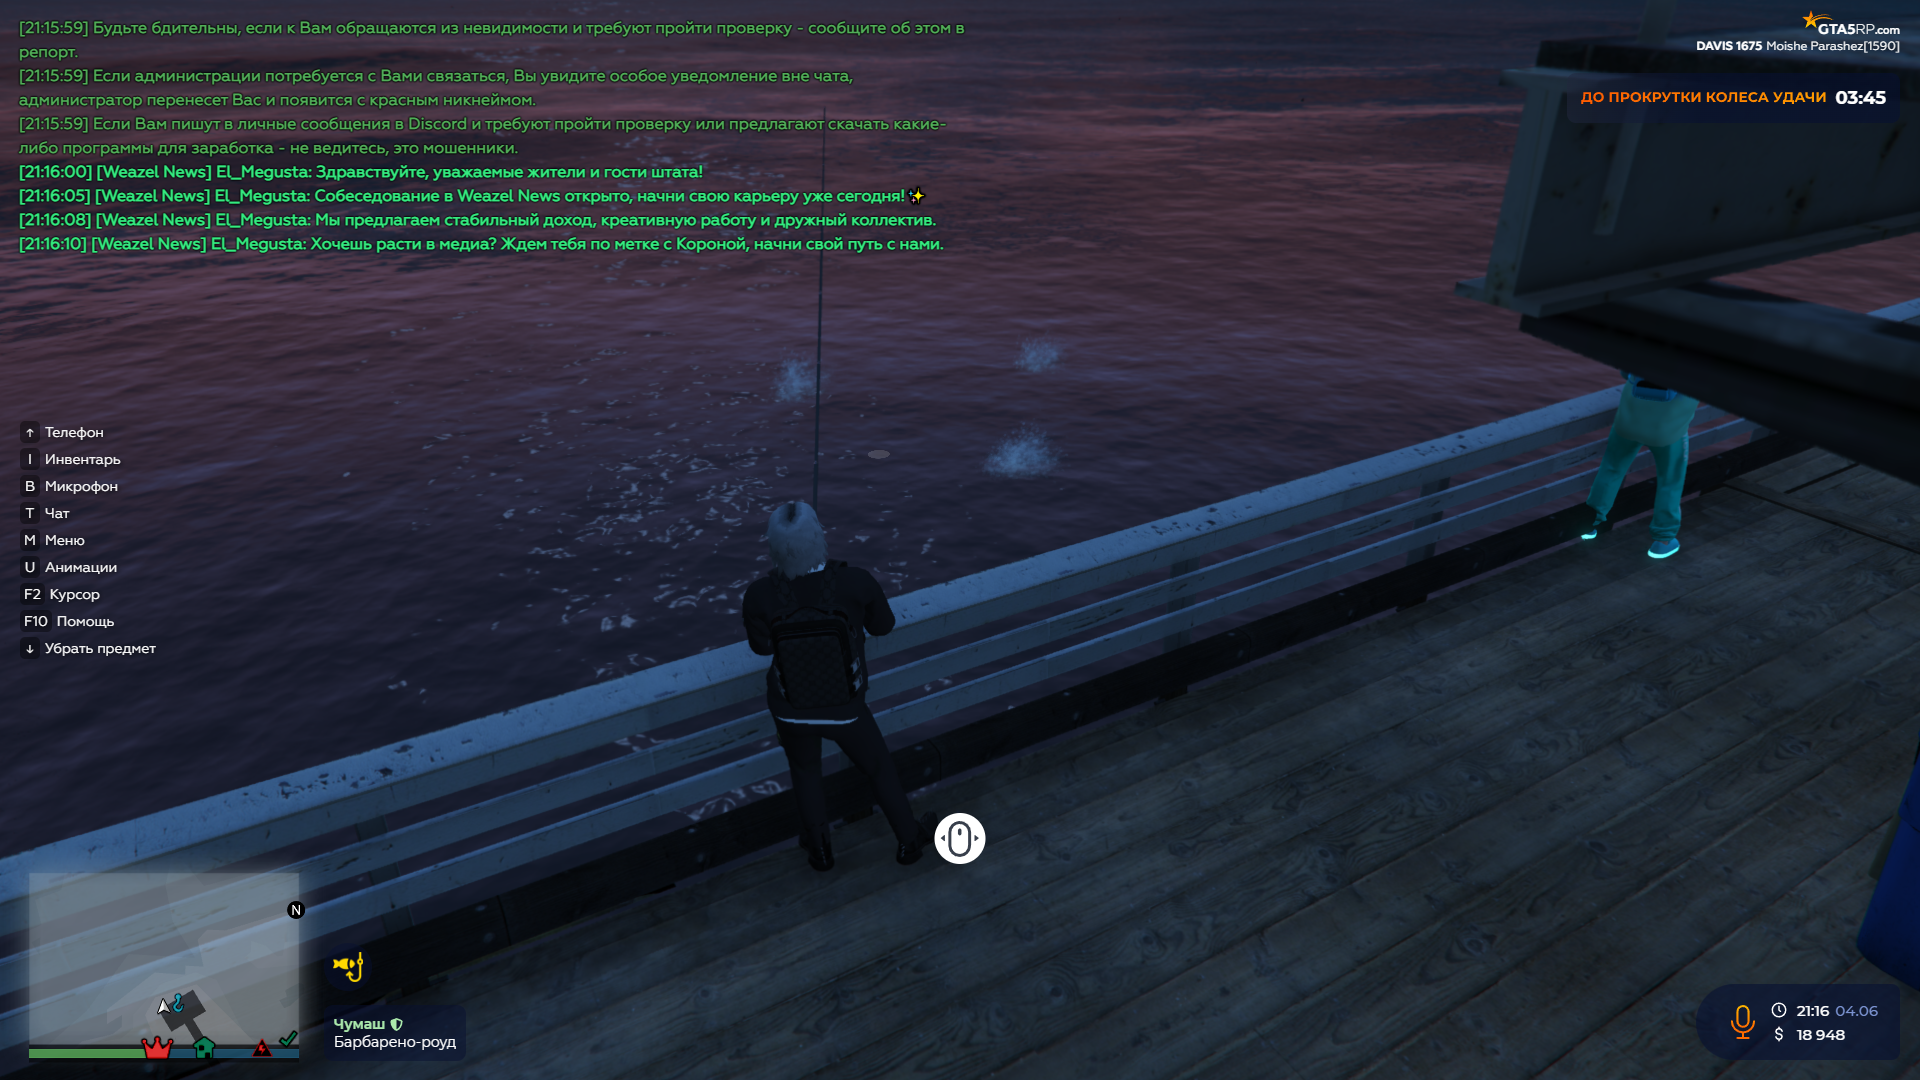circle: (866, 448, 891, 460)
